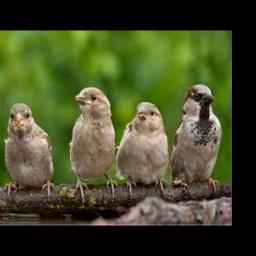Sparrow: (170, 83, 222, 193), (70, 87, 118, 201), (4, 103, 55, 200), (116, 101, 169, 192)
